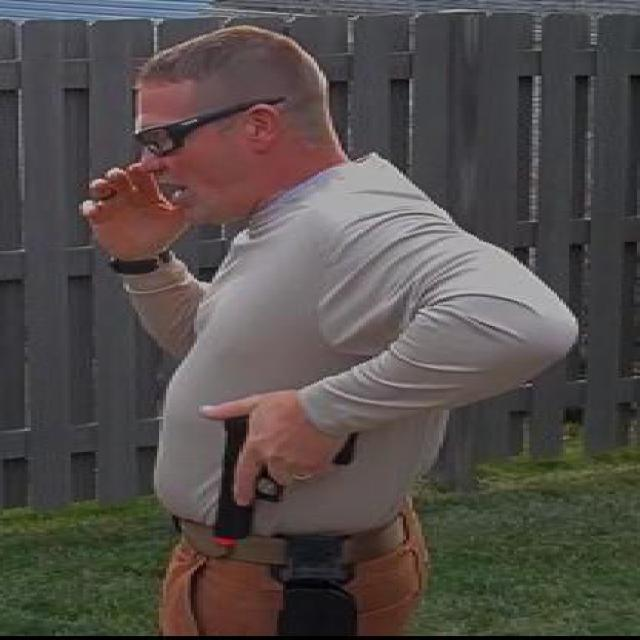Gun: (209, 397, 366, 545)
